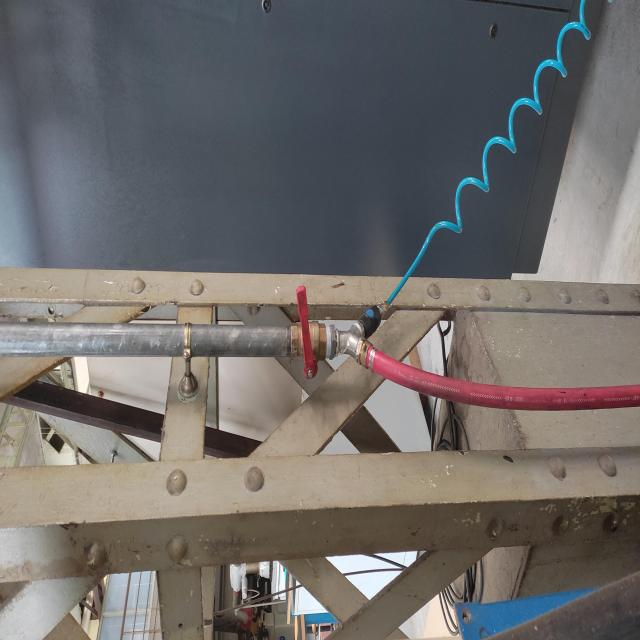closed_valve: (290, 281, 328, 384)
